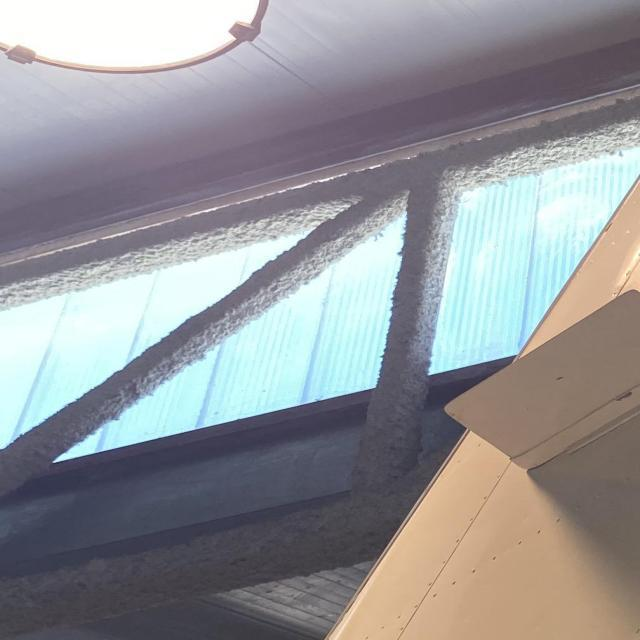Paint-off: (616, 391, 632, 401), (554, 376, 566, 381)
